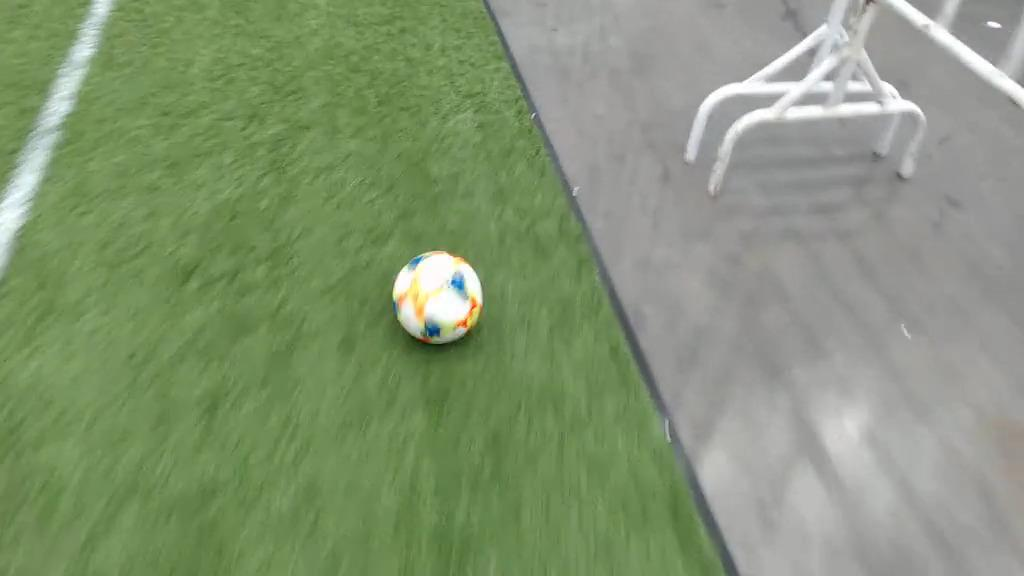ball: (392, 251, 481, 346)
